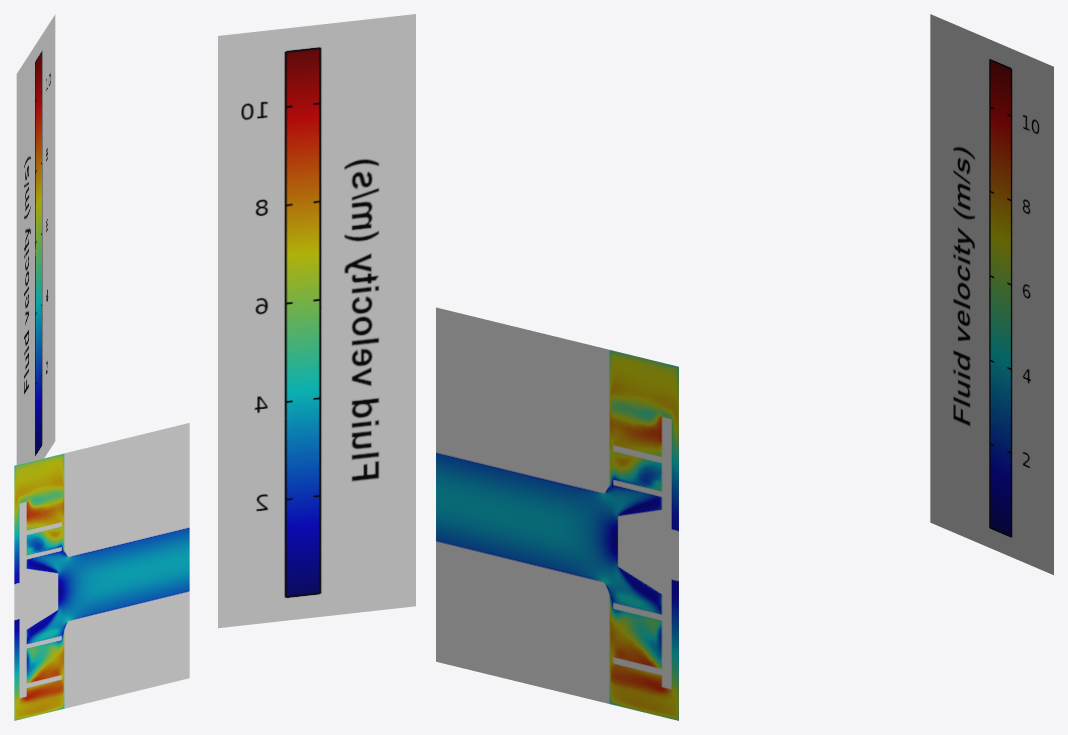
The model's file is P2Vtran03.glb.
The picture shows the model from 3 angles, left to right: view 1: azimuth 30°, elevation 25°; view 2: azimuth 150°, elevation 25°; view 3: azimuth 270°, elevation 25°; orthographic projection. The views are drawn at different scales.
Visible parts, largest first — view 1: velocity map tran P2 v2, Vscale; view 2: Vscale, velocity map tran P2 v2; view 3: Vscale.
Part boxes in pixels (box(x1,y1,x2,y2)): velocity map tran P2 v2: box(14, 423, 189, 720); Vscale: box(16, 14, 55, 464); Vscale: box(218, 14, 415, 628); velocity map tran P2 v2: box(436, 307, 678, 720); Vscale: box(930, 14, 1053, 574).
Bounding box in the file's own units: 0.1961 × 0.5568 × 0.2649.
2 materials, 2 textured.
